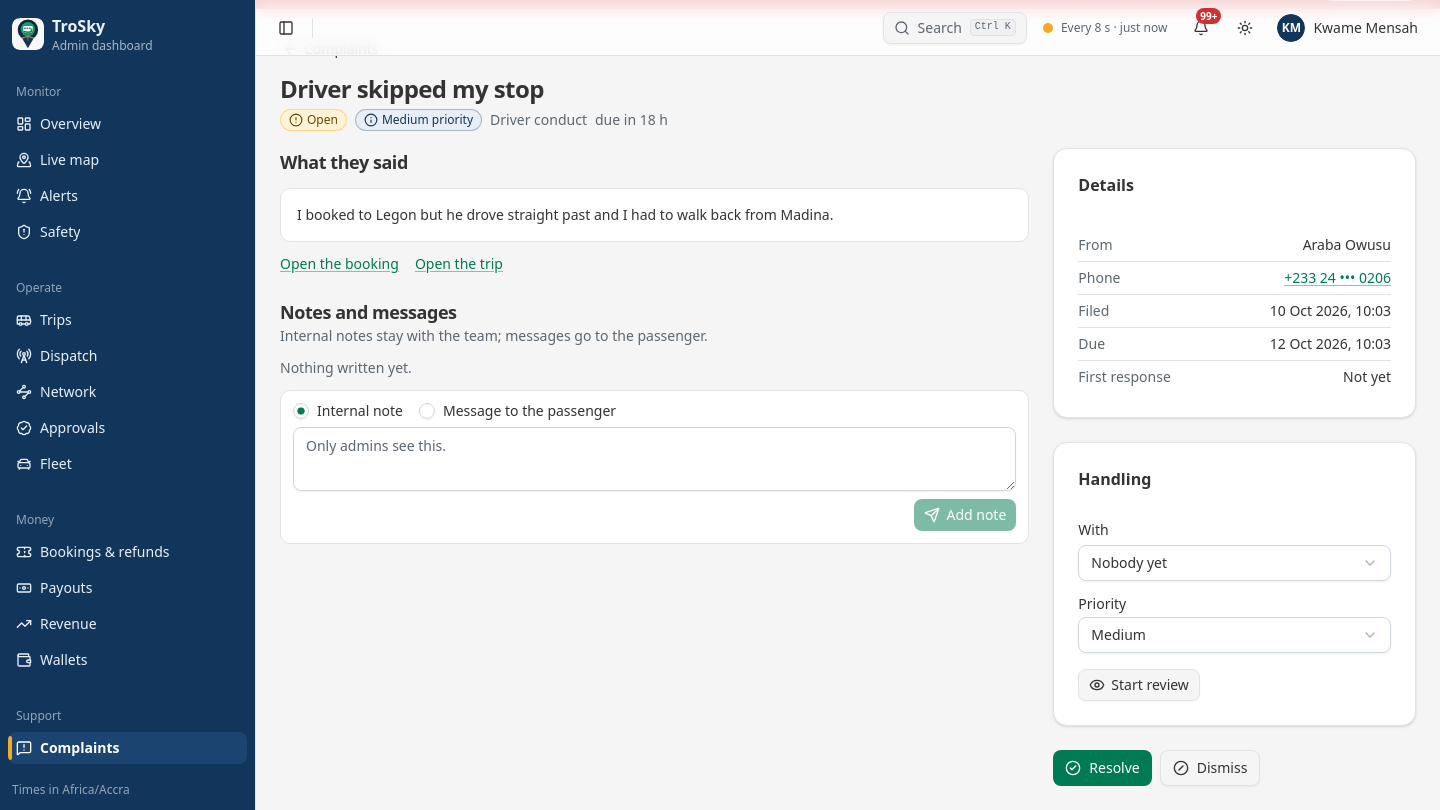
Test: Complaints › are resolved with a note, then closed to changes
This screenshot has width=1440, height=810.
(page scrolled)
Expected: the heading "Driver skipped my stop" is shown, [280,72,544,105]
Click the button "Resolve" at (1102, 768), box [1053,750,1152,786]
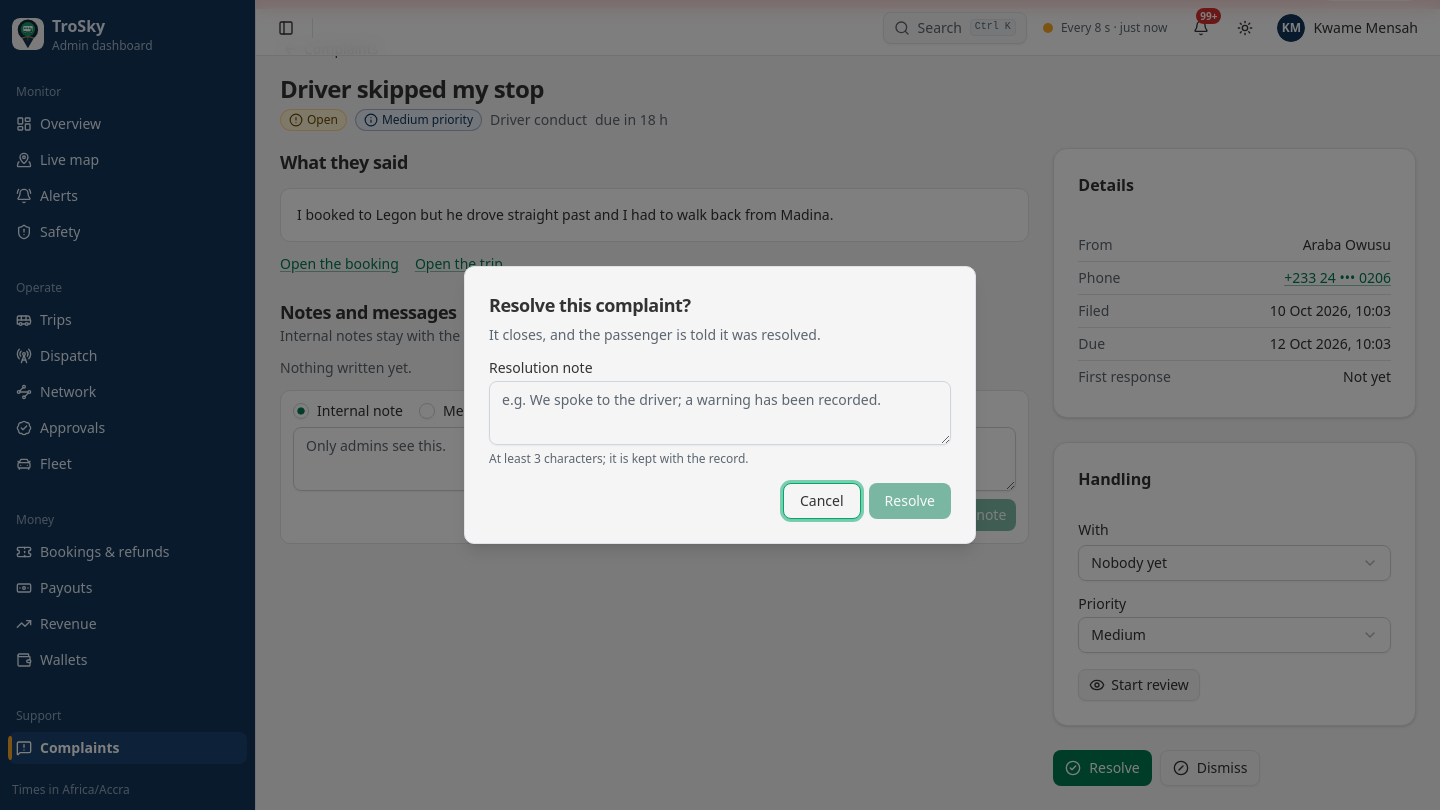
Now the button "Resolve" is disabled, box [869,483,951,519]
Type "Refunded the extra fare and warned the mate." into the text box at (720, 413), box [489,381,951,445]
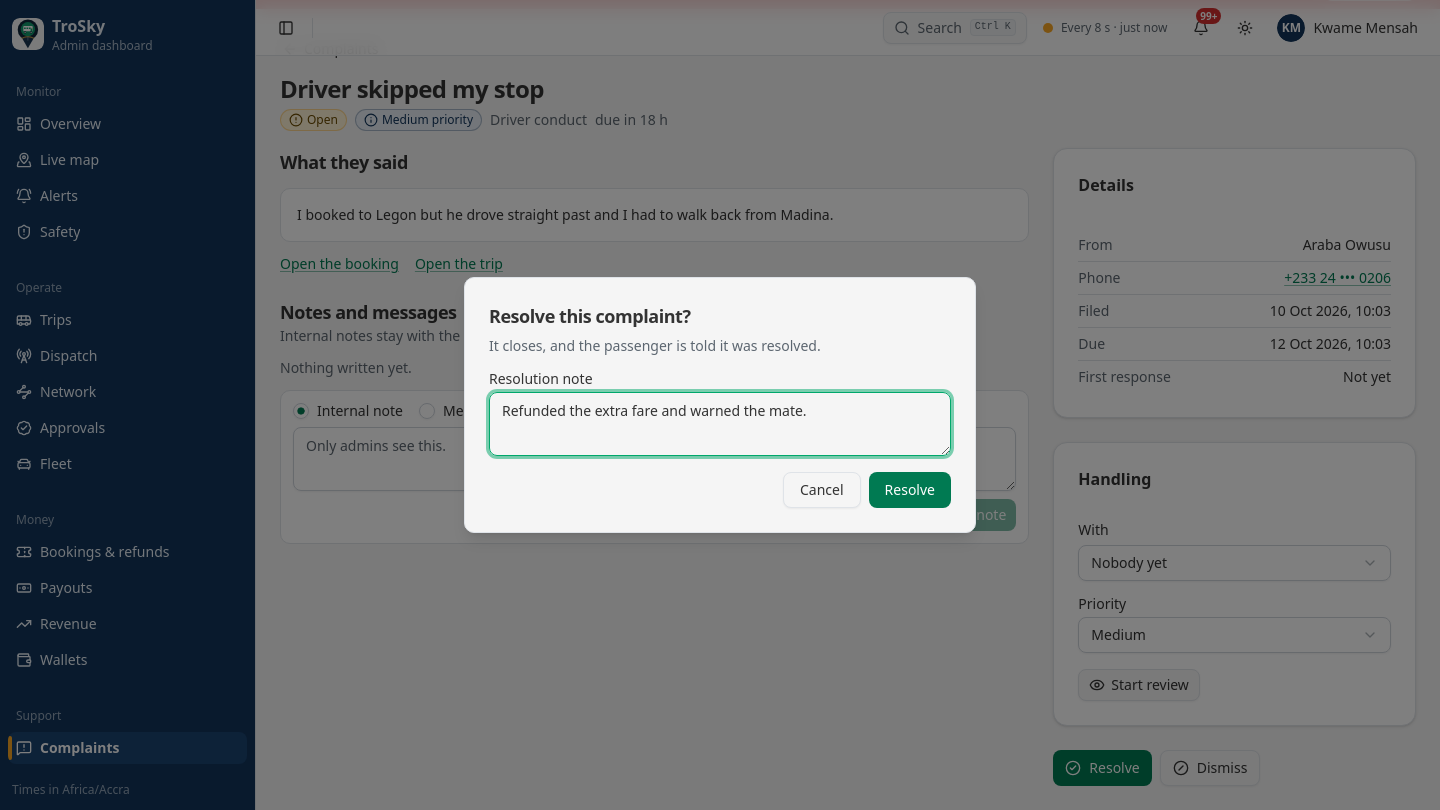
Click the button "Resolve" at (910, 490), box [869,472,951,508]
(page scrolled)
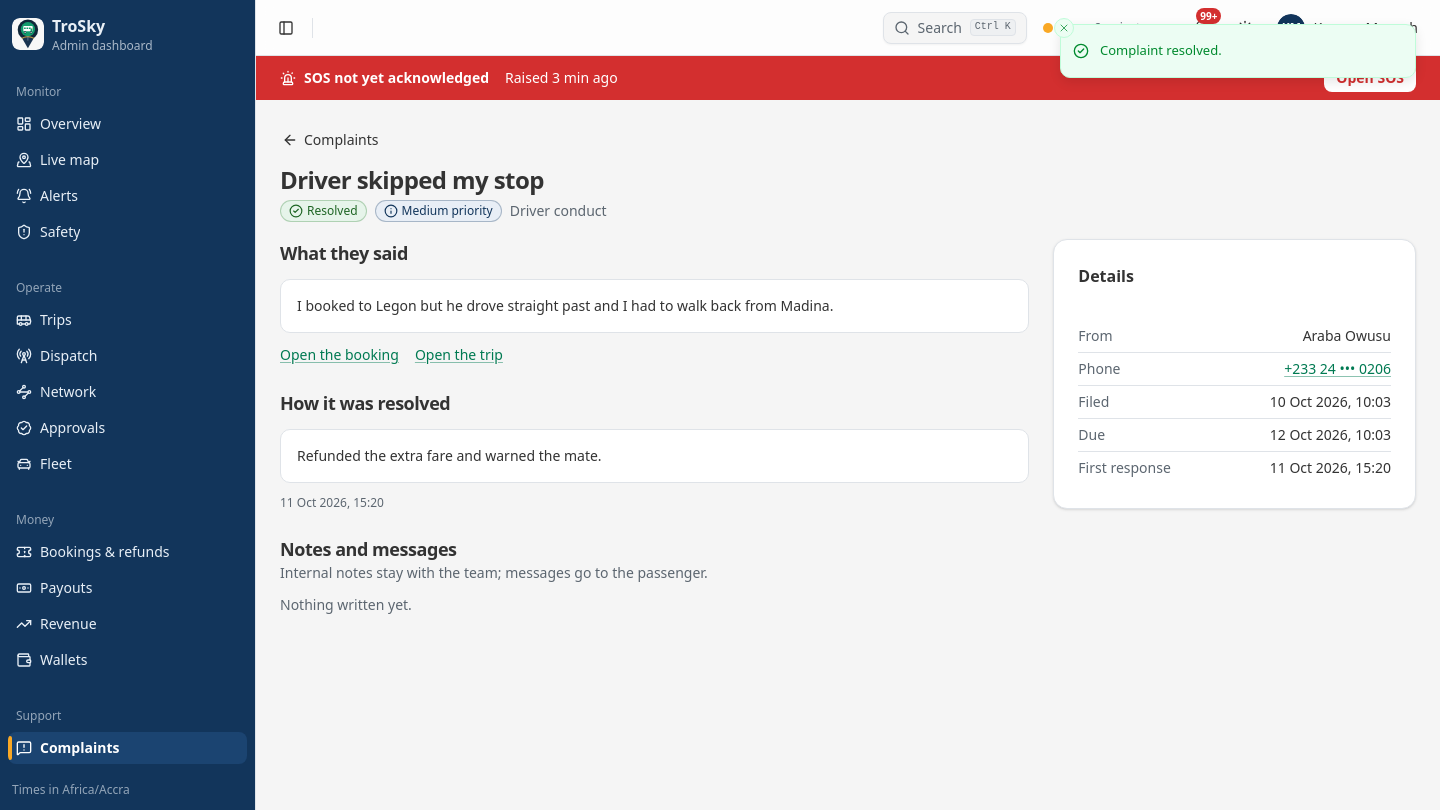
Now the text "Complaint resolved." is shown, box [1100,41,1222,60]
Now the heading "How it was resolved" is shown, box [280,389,450,417]
Now the text "Refunded the extra fare and warned the mate." is shown, box [280,429,1029,483]
